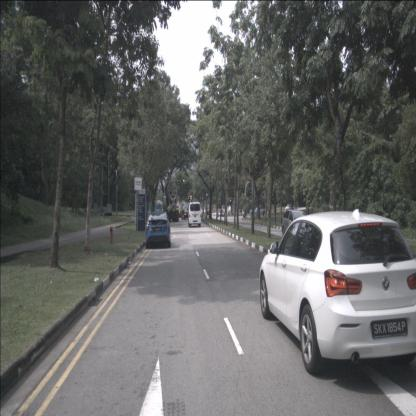human-pedestrian-adult: (262, 208, 265, 219)
vehicle-car: (259, 210, 416, 377), (281, 210, 315, 240), (145, 211, 171, 249), (188, 202, 201, 228), (180, 207, 192, 221), (253, 205, 265, 215), (285, 204, 296, 212), (218, 209, 224, 217)
